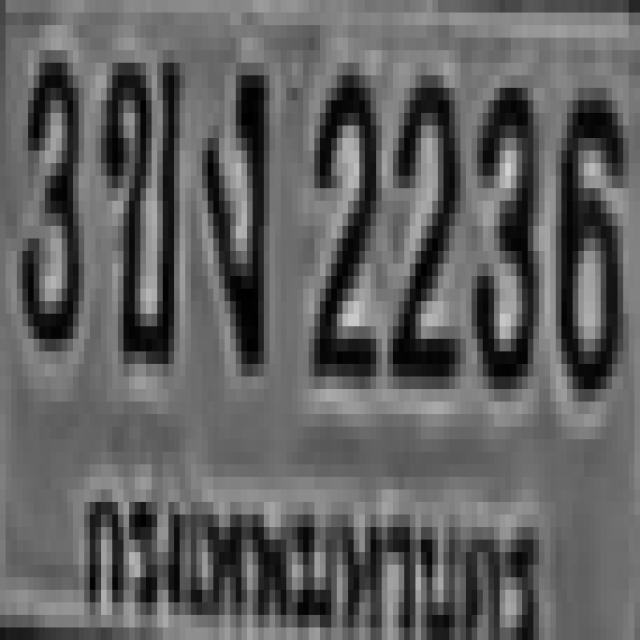11KhorKhai: (98, 51, 177, 352)
16NgorNgu: (199, 50, 267, 364)
2: (309, 57, 376, 370), (387, 69, 455, 370)
3: (466, 76, 533, 377), (16, 44, 78, 332)
6: (550, 75, 618, 389)
Bangkok: (81, 441, 550, 640)
